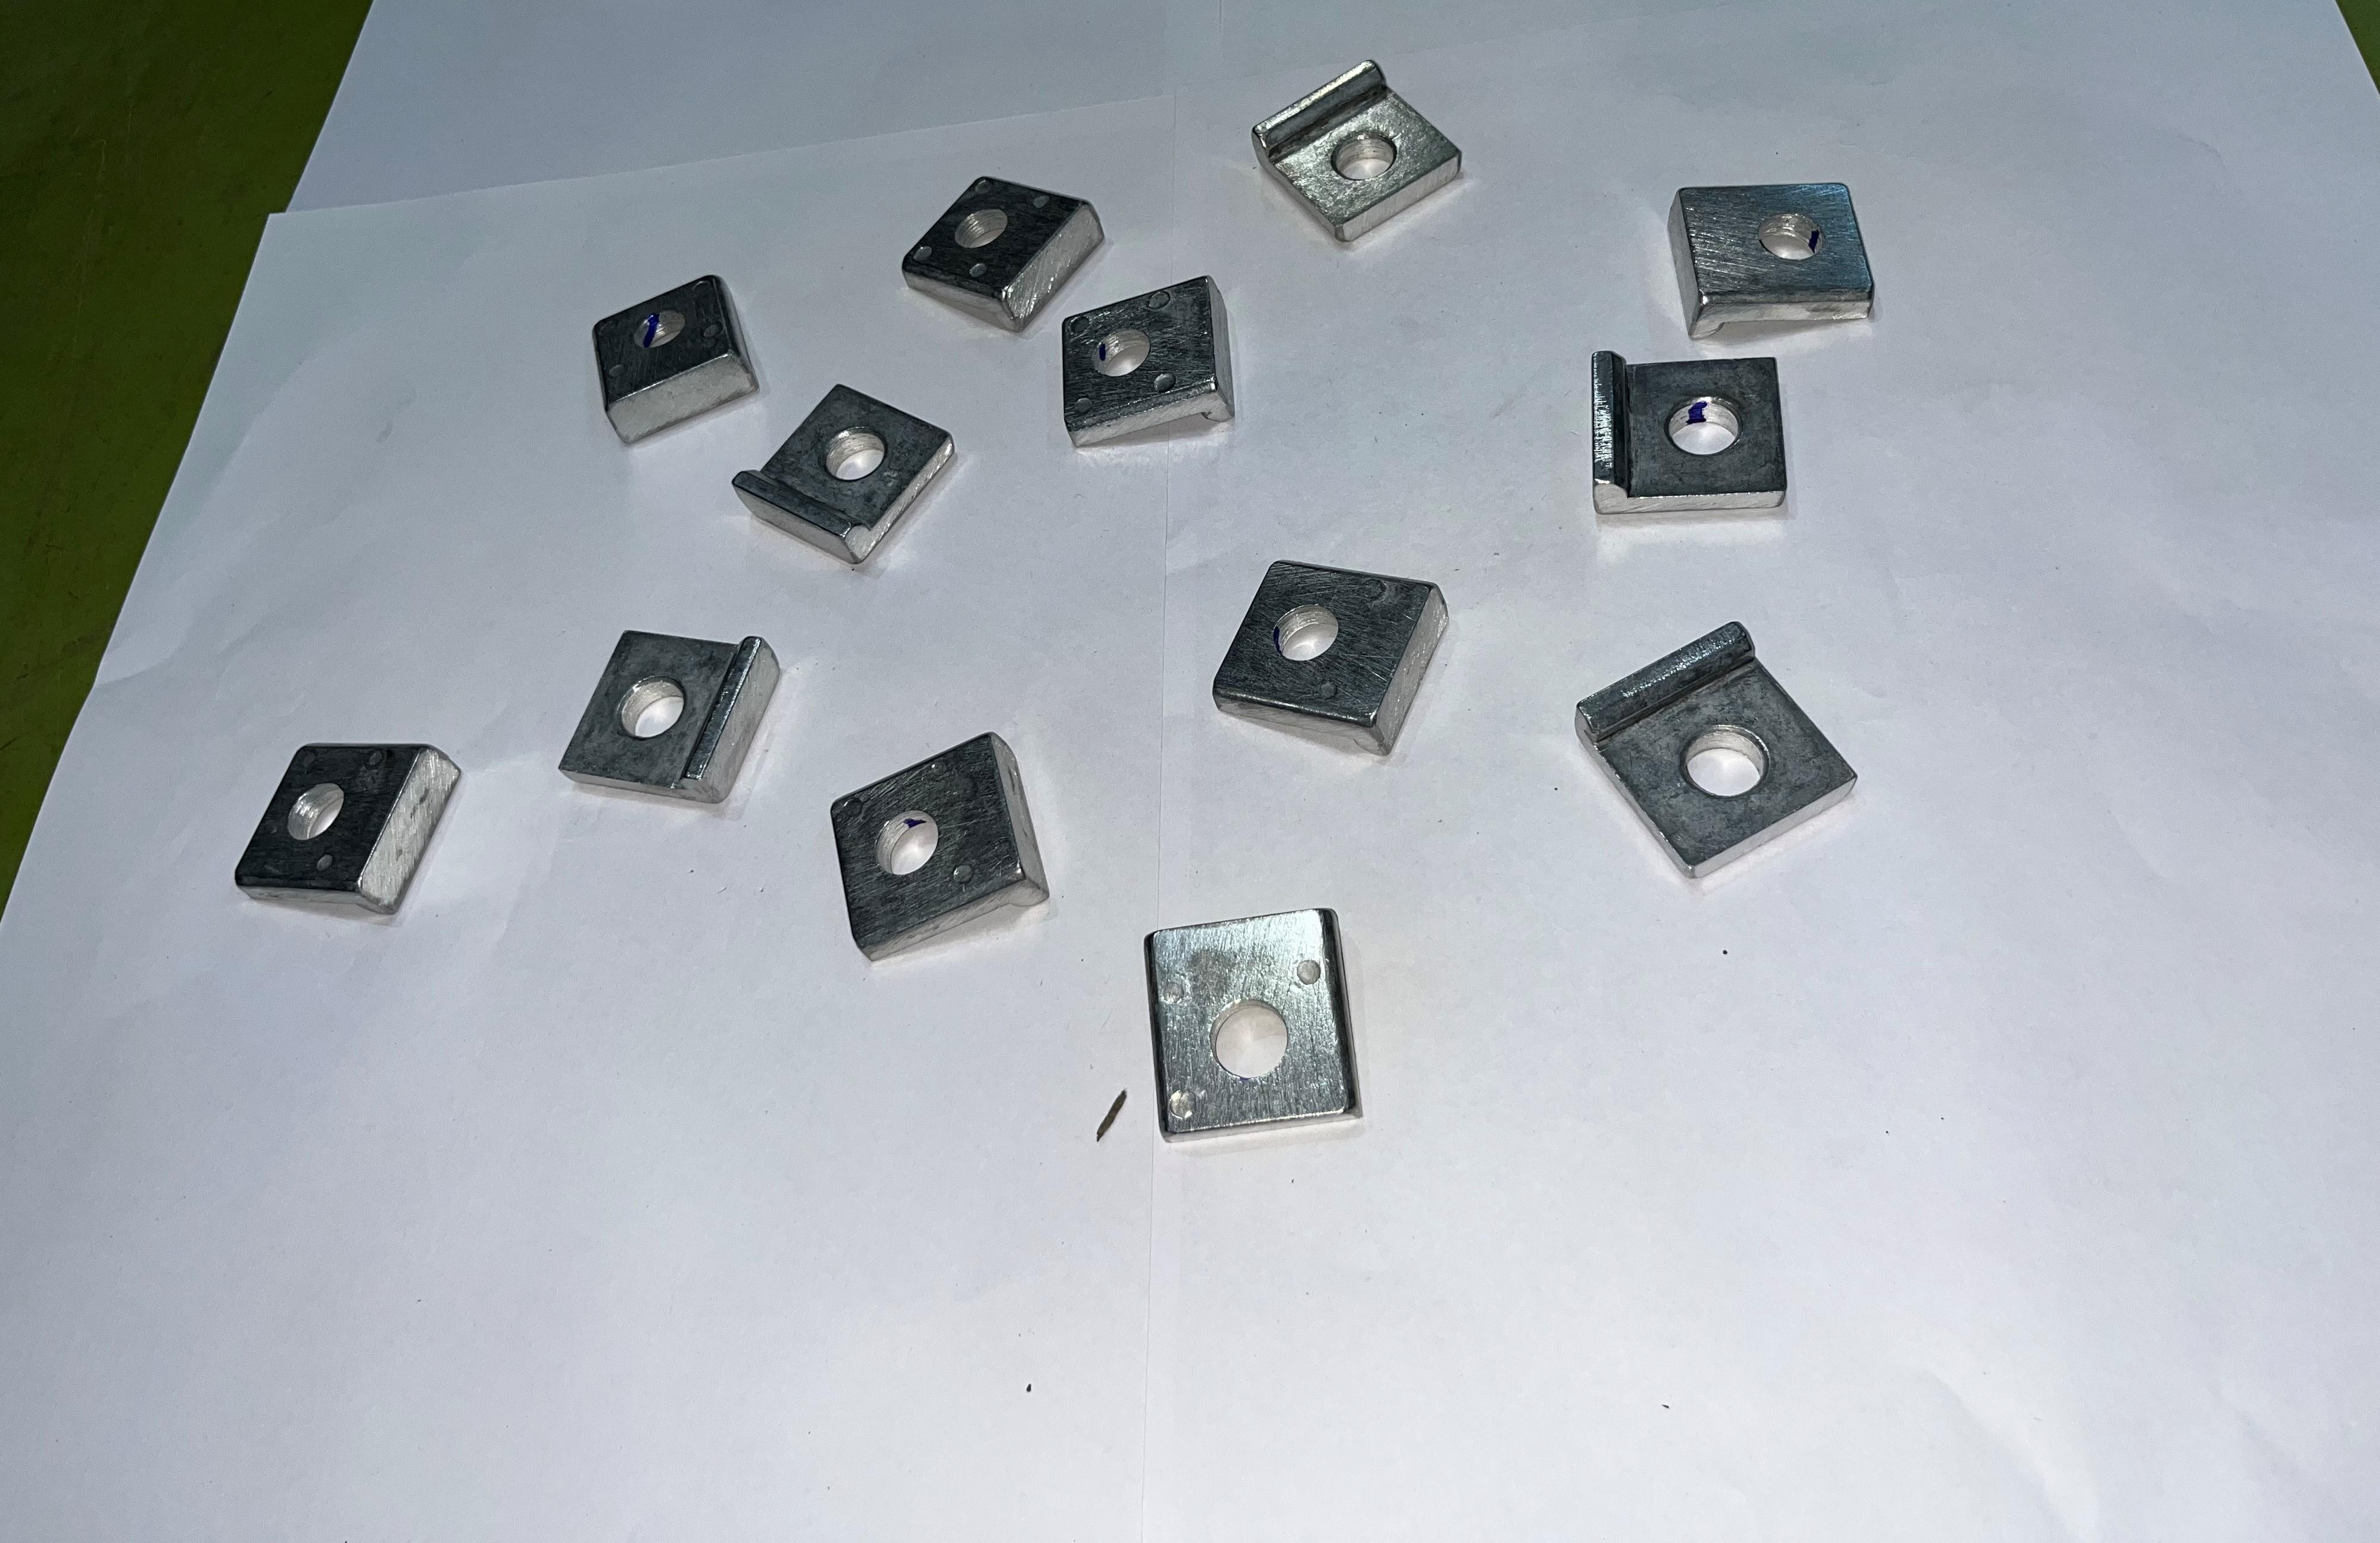Type A: (1533, 584, 1912, 888), (1169, 531, 1492, 780), (810, 730, 1063, 967), (1134, 912, 1377, 1151), (227, 728, 465, 924), (553, 617, 782, 817), (734, 381, 959, 569), (1247, 52, 1466, 241), (1575, 345, 1799, 522), (1651, 180, 1880, 342), (899, 166, 1112, 322), (579, 276, 760, 444), (1069, 270, 1232, 456)
